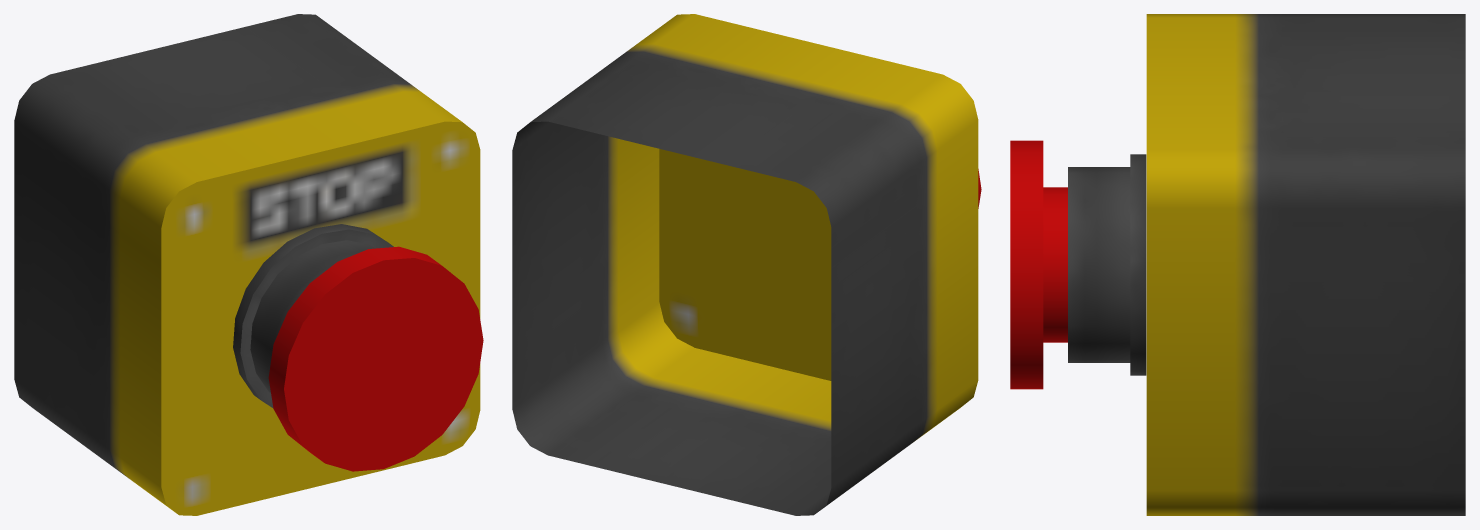
File: SM_Button2.fbx
3 renders of one model, left to right at view 1: azimuth 30°, elevation 25°; view 2: azimuth 150°, elevation 25°; view 3: azimuth 270°, elevation 25°, orthographic. The views are drawn at different scales.
Visible parts, largest first — view 1: SM_Button2_LOD0; view 2: SM_Button2_LOD0; view 3: SM_Button2_LOD0.
Boxes of the visible parts, <box> form: SM_Button2_LOD0: <box>14,14,483,515</box>; SM_Button2_LOD0: <box>512,14,981,515</box>; SM_Button2_LOD0: <box>1010,14,1465,515</box>.
Bounding box in the file's own units: 8.74 × 9.96 × 8.74.
